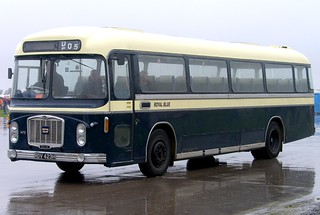bus: (7, 26, 315, 178)
